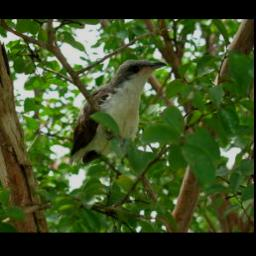Cuckoo: (67, 58, 165, 168)
